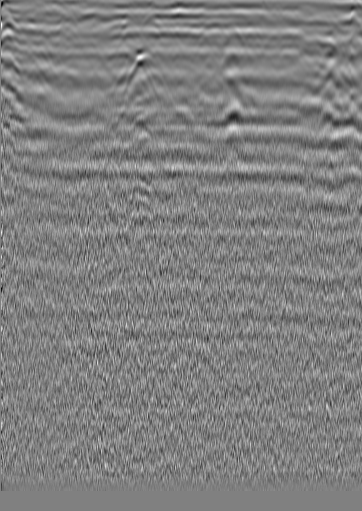가스: (126, 110, 159, 141)
상수: (288, 28, 308, 48)
오수: (36, 28, 56, 48)
우수: (168, 23, 188, 43)
